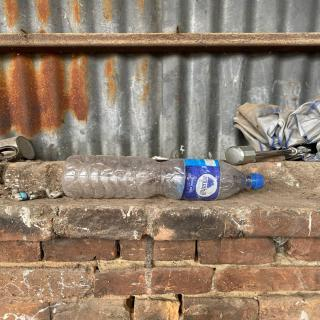Plastic-bottle: (61, 152, 269, 204)
